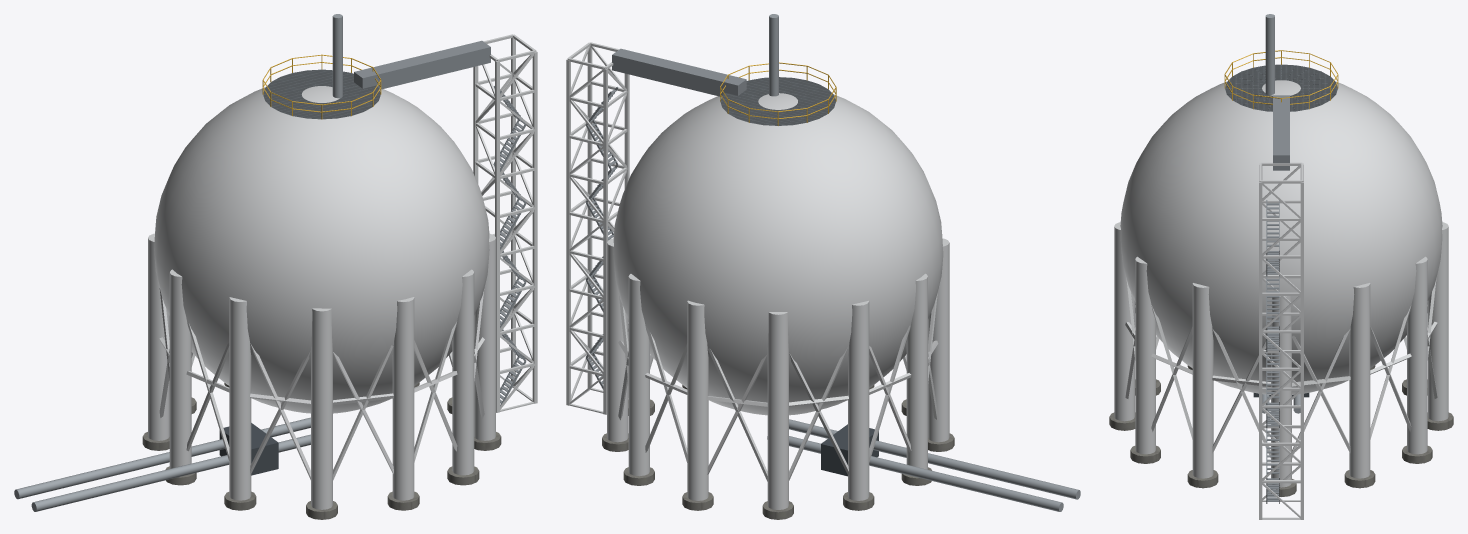
3 views of the same model, side by side, from view 1: azimuth 30°, elevation 25°; view 2: azimuth 150°, elevation 25°; view 3: azimuth 270°, elevation 25° (orthographic). The views are drawn at different scales.
Parts seen in each view (by area): view 1: sphere; view 2: sphere; view 3: sphere.
Part boxes in pixels (bbox=[...]): sphere: bbox=[14, 14, 537, 519]; sphere: bbox=[566, 14, 1080, 519]; sphere: bbox=[1109, 14, 1453, 519].
Bounding box in the file's own units: 39.83 × 32.7 × 24.7.
7 materials, 2 textured.
